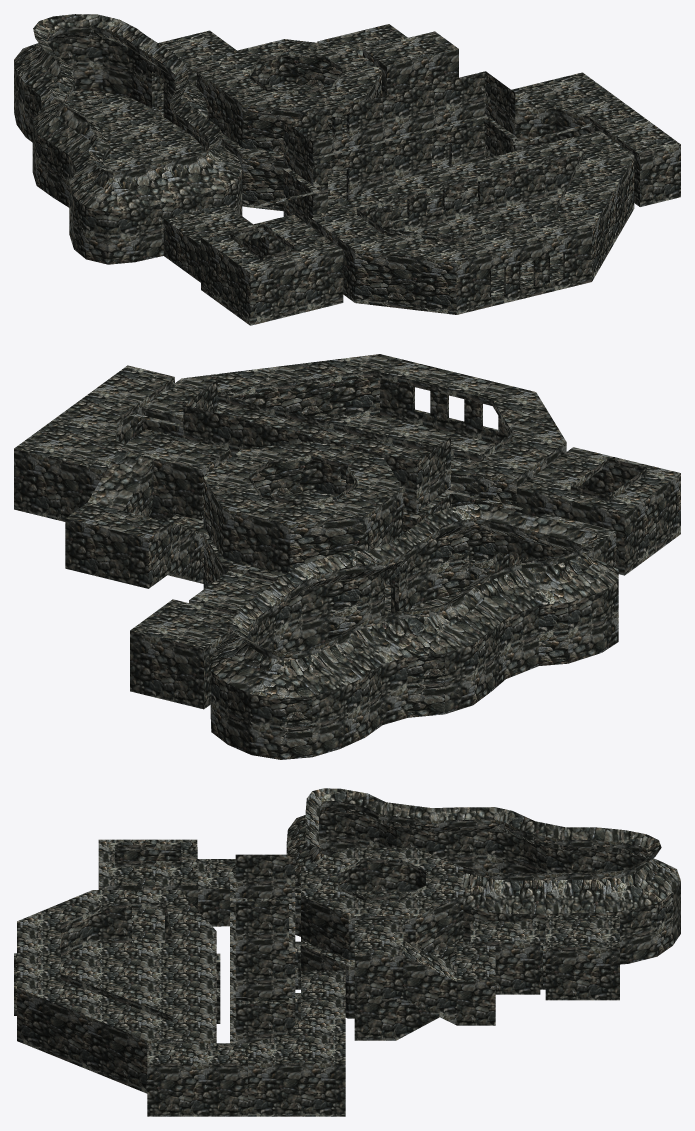
The model's file is map2.fbx.
3 views of the same model, one above another, from view 1: azimuth 30°, elevation 25°; view 2: azimuth 150°, elevation 25°; view 3: azimuth 270°, elevation 25° (orthographic). The views are drawn at different scales.
Parts seen in each view (by area): view 1: Plane.001, Plane.006, Plane.003, Plane.016, Plane.012, Plane, Plane.008, Plane.009, Plane.005, Plane.010, Plane.011, Plane.002 (+1 smaller); view 2: Plane.003, Plane.016, Plane.001, Plane.012, Plane, Plane.008, Plane.006, Plane.002, Plane.014, Plane.005, Plane.009, Plane.015 (+4 smaller); view 3: Plane.001, Plane.016, Plane.012, Plane.003, Plane.006, Plane.008, Plane.009, Plane.002, Plane, Plane.004, Plane.005, Plane.015 (+5 smaller).
Part boxes in pixels (left/top/right/bottom): Plane.001: left=311, top=130, right=634, bottom=314; Plane.006: left=254, top=71, right=594, bottom=226; Plane.003: left=36, top=65, right=242, bottom=264; Plane.016: left=14, top=14, right=201, bottom=184; Plane.012: left=209, top=39, right=381, bottom=152; Plane: left=201, top=214, right=343, bottom=325; Plane.008: left=511, top=72, right=630, bottom=150; Plane.009: left=590, top=108, right=680, bottom=206; Plane.005: left=363, top=31, right=458, bottom=96; Plane.010: left=163, top=203, right=269, bottom=282; Plane.011: left=220, top=118, right=347, bottom=211; Plane.002: left=154, top=30, right=236, bottom=113; Plane.003: left=282, top=504, right=618, bottom=704; Plane.016: left=210, top=565, right=473, bottom=759; Plane.001: left=141, top=354, right=566, bottom=511; Plane.012: left=203, top=440, right=403, bottom=573; Plane: left=517, top=447, right=680, bottom=575; Plane.008: left=14, top=408, right=124, bottom=521; Plane.006: left=129, top=380, right=523, bottom=533; Plane.002: left=130, top=599, right=235, bottom=709; Plane.014: left=65, top=502, right=170, bottom=588; Plane.005: left=119, top=429, right=229, bottom=519; Plane.009: left=70, top=365, right=174, bottom=444; Plane.015: left=88, top=449, right=153, bottom=516; Plane.001: left=14, top=890, right=220, bottom=1093; Plane.016: left=495, top=807, right=680, bottom=964; Plane.012: left=301, top=847, right=463, bottom=959; Plane.003: left=286, top=788, right=495, bottom=941; Plane.006: left=230, top=854, right=300, bottom=1043; Plane.008: left=248, top=1019, right=345, bottom=1116; Plane.009: left=147, top=1043, right=247, bottom=1116; Plane.002: left=543, top=915, right=619, bottom=1000; Plane: left=98, top=839, right=197, bottom=942; Plane.004: left=467, top=921, right=542, bottom=994; Plane.005: left=354, top=920, right=403, bottom=999; Plane.015: left=403, top=940, right=456, bottom=1025.
Bounding box in the file's own units: 1595 × 316 × 1793.
